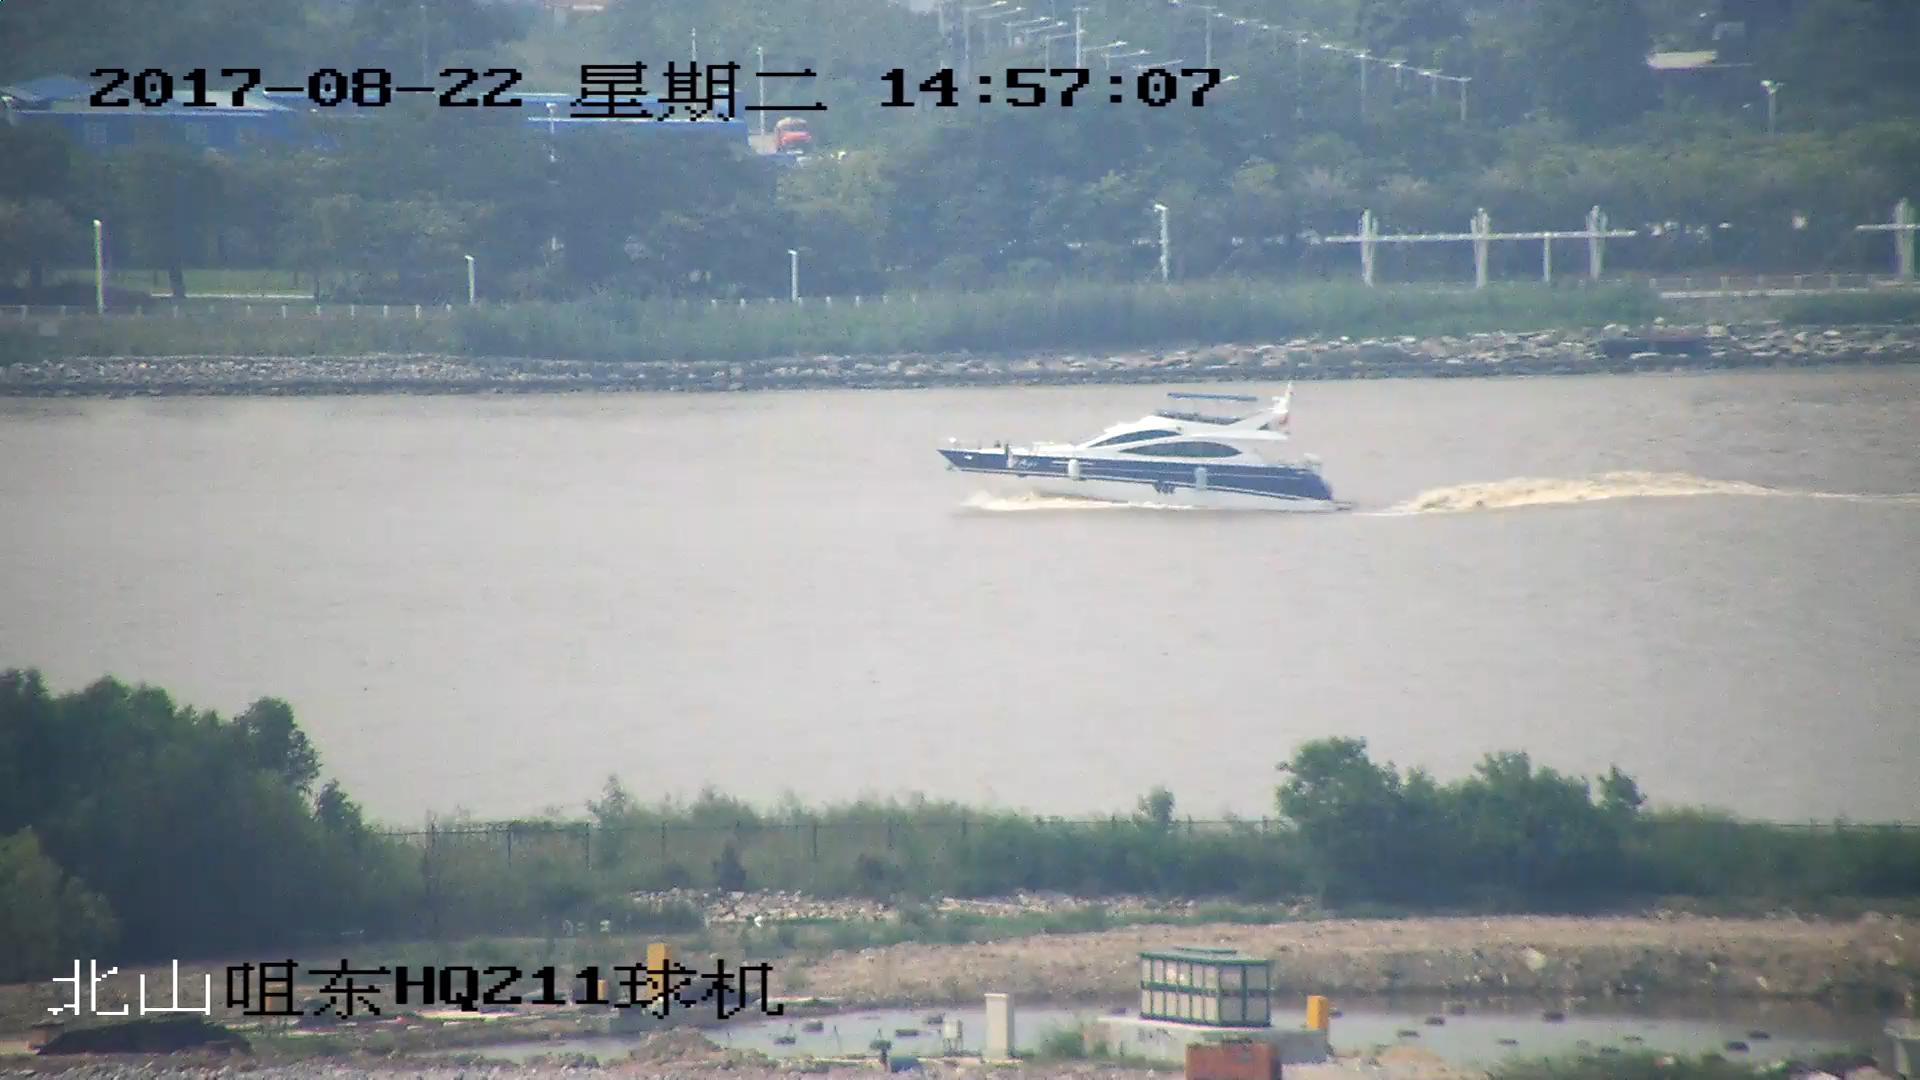passenger ship: (938, 389, 1344, 519)
